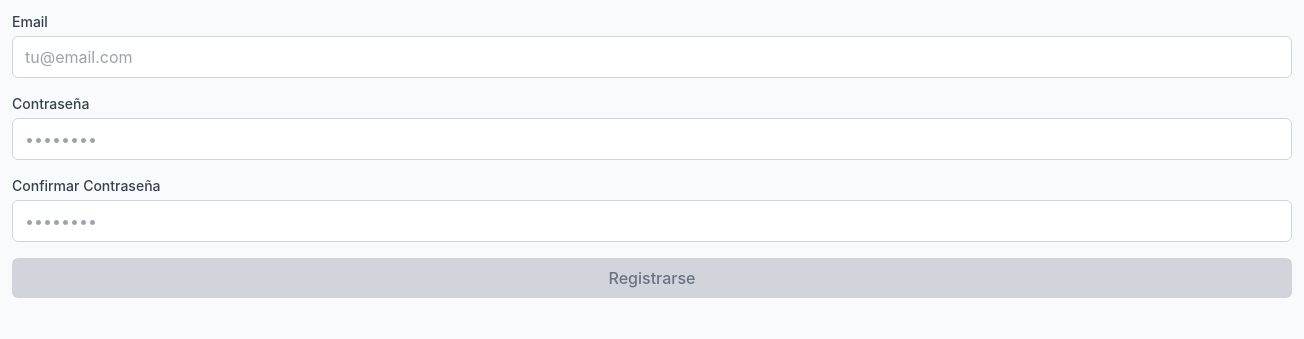
it: RegisterForm › should show error for password without uppercase, lowercase, and numbers
Type "password" into the password field labelled "Contraseña" at (652, 139), box [12,118,1292,160]
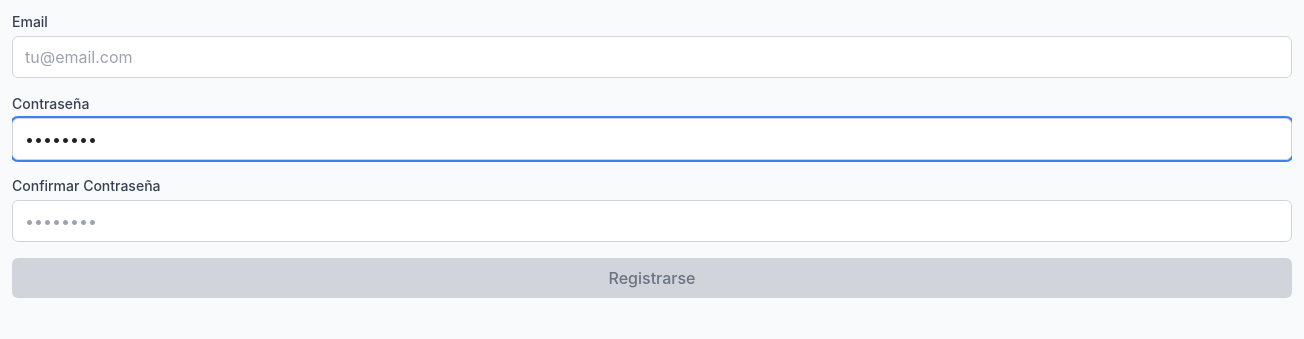
Press Tab
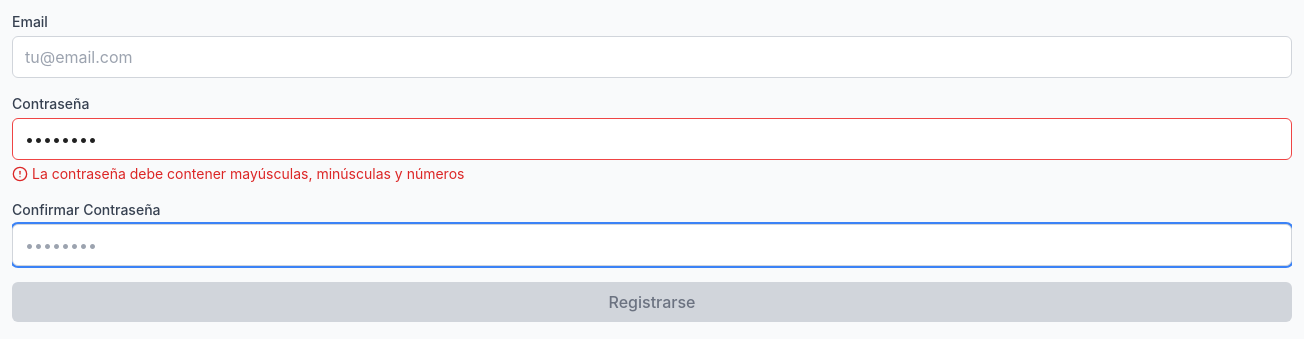
expect the text "La contraseña debe contener mayúsculas, minúsculas y números" is shown: met, box [12,165,464,182]
